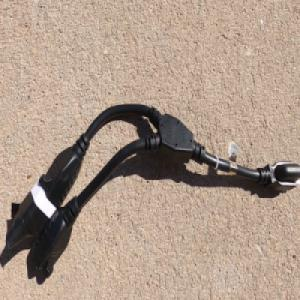Wire: (4, 102, 300, 279)
